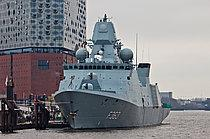MIL_Ship: (50, 15, 173, 130)
